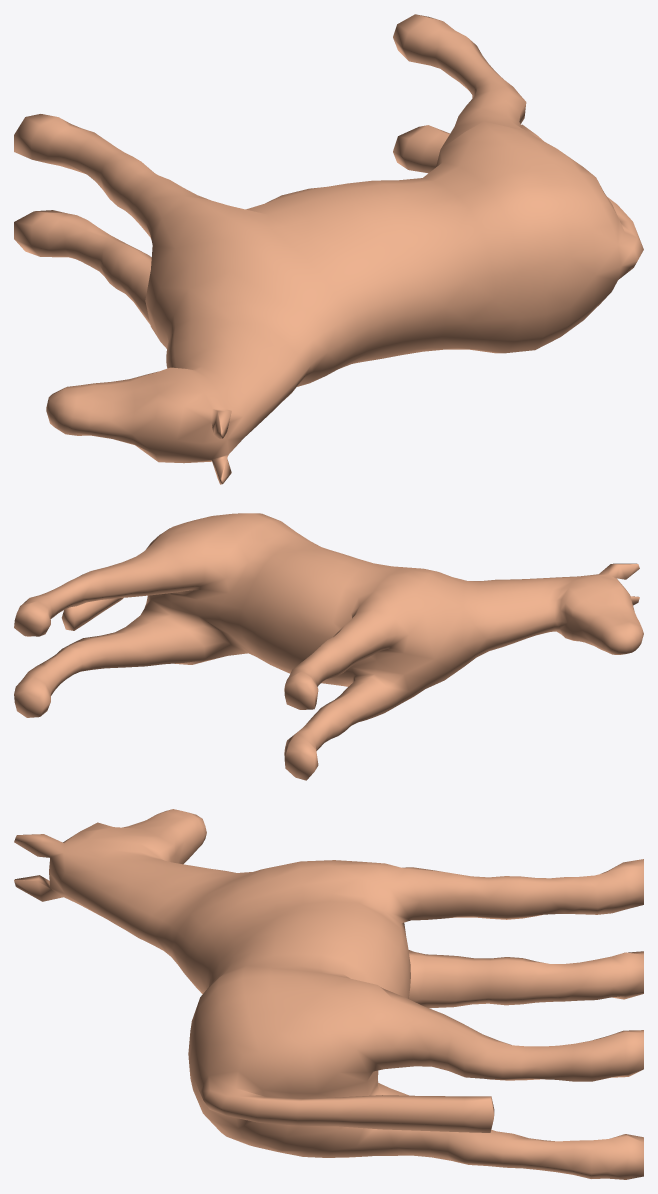
File: horse.obj
3 renders of one model, top to bottom at view 1: azimuth 30°, elevation 25°; view 2: azimuth 150°, elevation 25°; view 3: azimuth 270°, elevation 25°, orthographic. The views are drawn at different scales.
Parts seen in each view (by area): view 1: horse; view 2: horse; view 3: horse.
Boxes of the visible parts, x1,y1,x2,y2 form: horse: (14, 14, 643, 484); horse: (14, 513, 643, 780); horse: (14, 809, 643, 1179).
Size of the model in its own units: 108 by 27.54 by 96.61.
